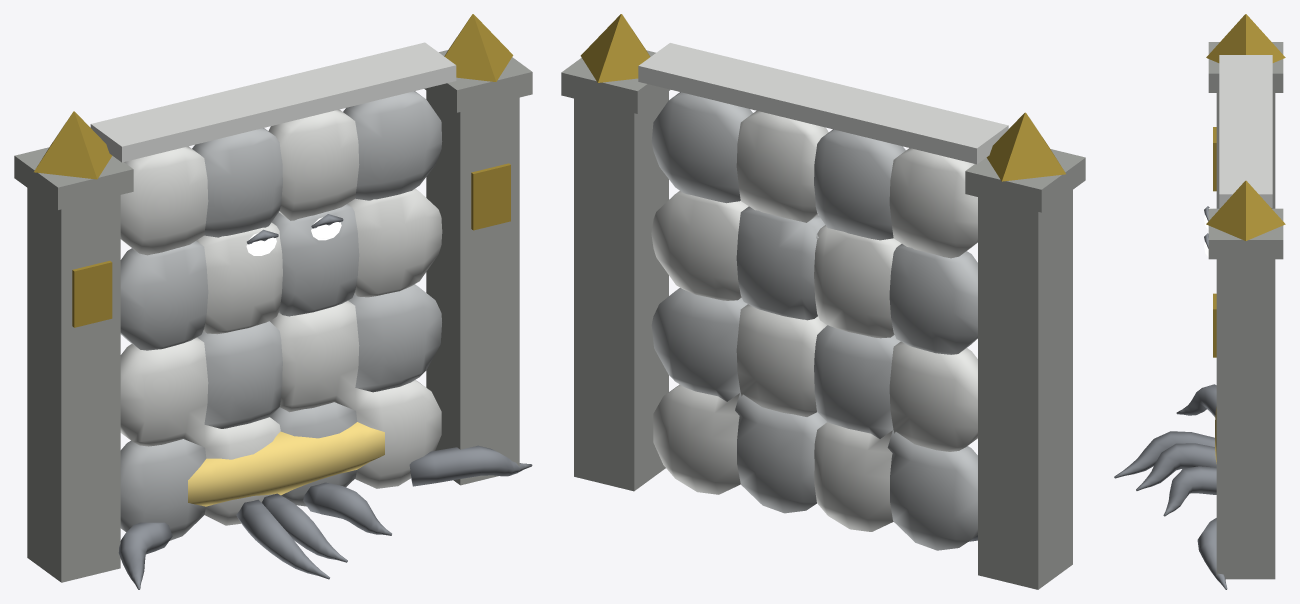
File: fog-standing-fog.glb
3 views of the same model, side by side, from view 1: azimuth 30°, elevation 25°; view 2: azimuth 150°, elevation 25°; view 3: azimuth 270°, elevation 25° (orthographic). The views are drawn at different scales.
Visible parts, largest first — view 1: pulse_fog, fog_standing_fog, sway_edge, blink_eyes; view 2: pulse_fog, fog_standing_fog; view 3: fog_standing_fog, sway_edge.
Boxes of the visible parts, <box> form: pulse_fog: <box>120,91,442,540</box>; fog_standing_fog: <box>14,14,532,582</box>; sway_edge: <box>118,445,532,589</box>; blink_eyes: <box>246,217,341,255</box>; pulse_fog: <box>651,92,977,550</box>; fog_standing_fog: <box>561,14,1085,589</box>; fog_standing_fog: <box>1206,14,1285,579</box>; sway_edge: <box>1114,384,1227,589</box>.
Size of the model in its own units: 0.9031 by 0.8067 by 0.3223.
